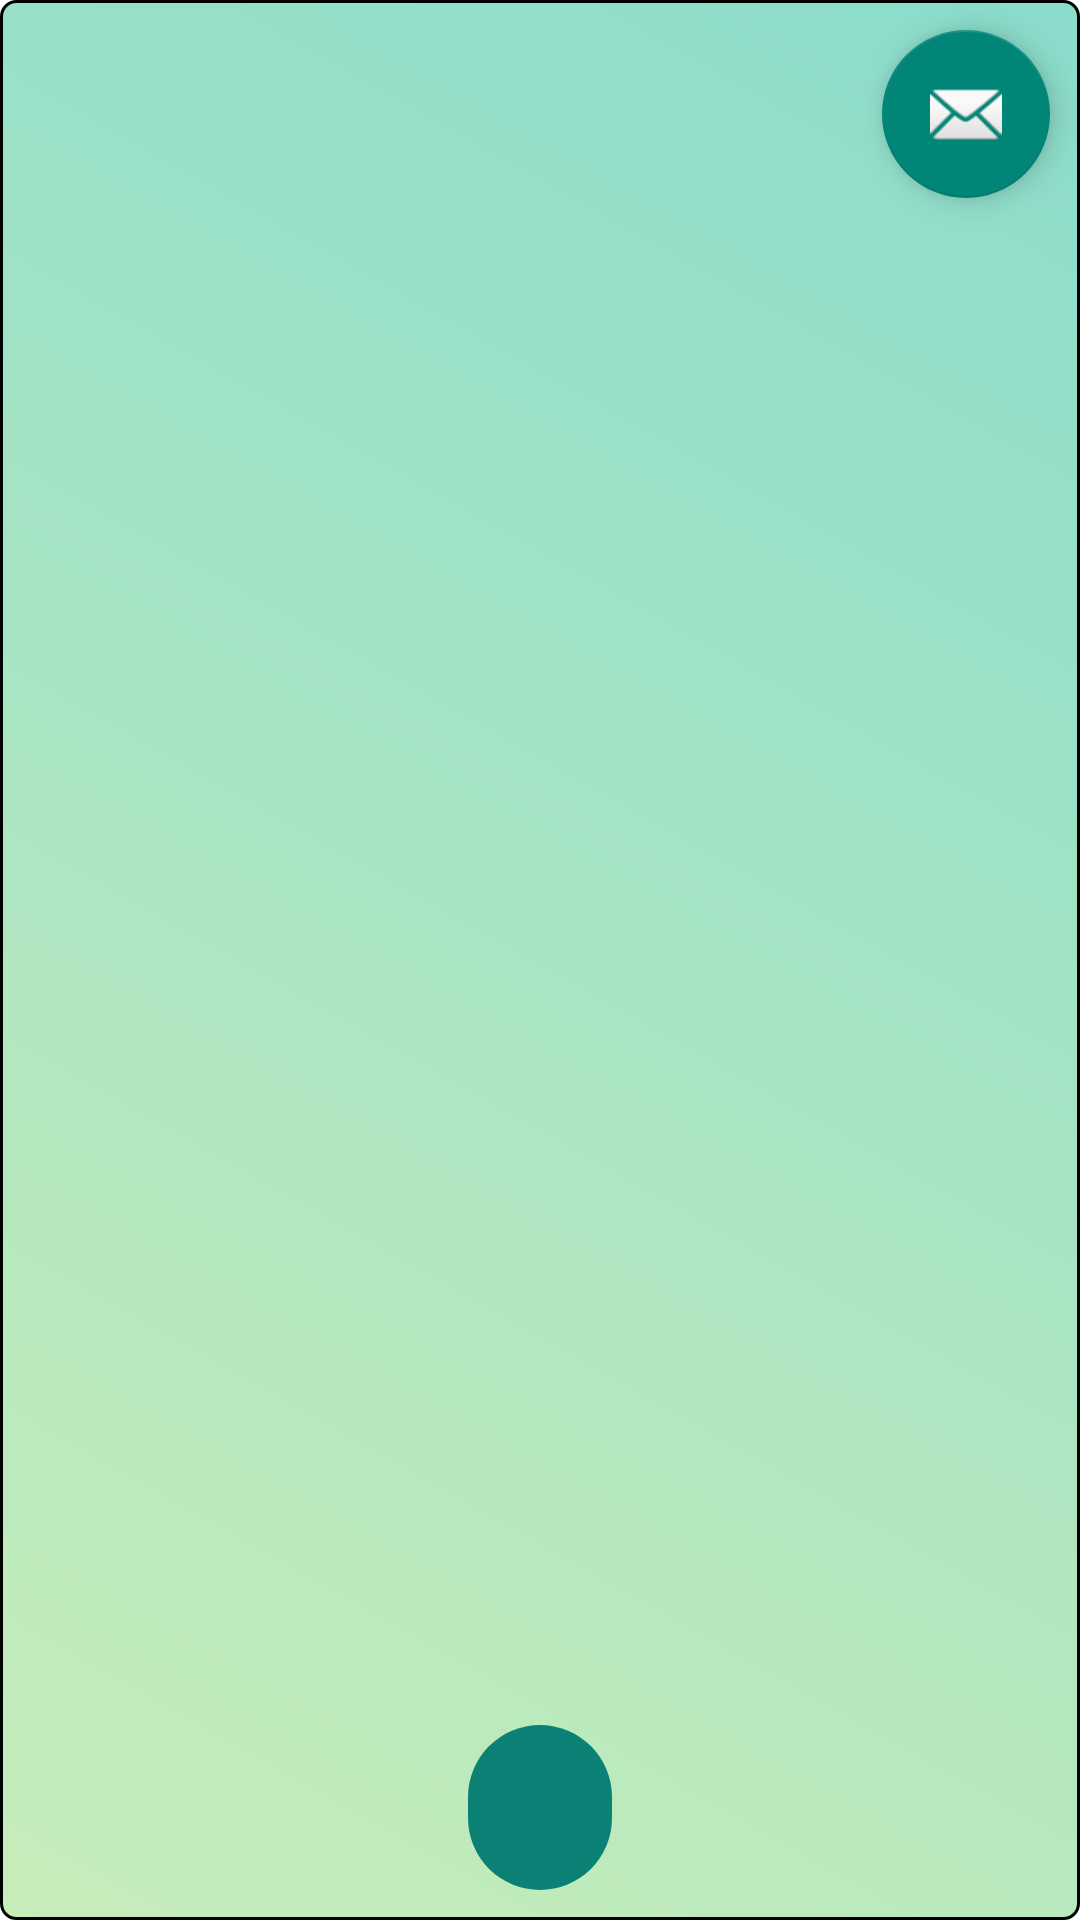

Locate icon controls on the screen. Image size 1080 x 1920, boxes as (x1, y1, x2, y2).
email: (882, 30, 1050, 198)
